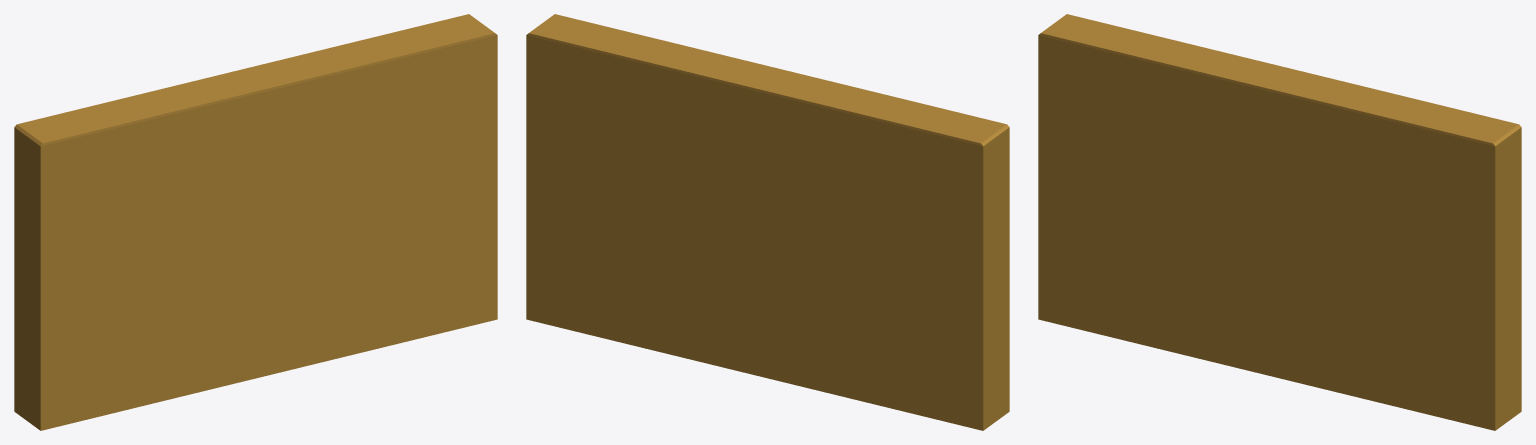
The model's file is LowWall-Atl.fbx.
3 views of the same model, side by side, from view 1: azimuth 30°, elevation 25°; view 2: azimuth 150°, elevation 25°; view 3: azimuth 330°, elevation 25° (orthographic).
Visible parts, largest first — view 1: Low wall; view 2: Low wall; view 3: Low wall.
Boxes of the visible parts, <box> form: Low wall: <box>14,14,497,430</box>; Low wall: <box>526,14,1009,430</box>; Low wall: <box>1038,14,1521,430</box>.
Bounding box in the file's own units: 200 × 120 × 20.
